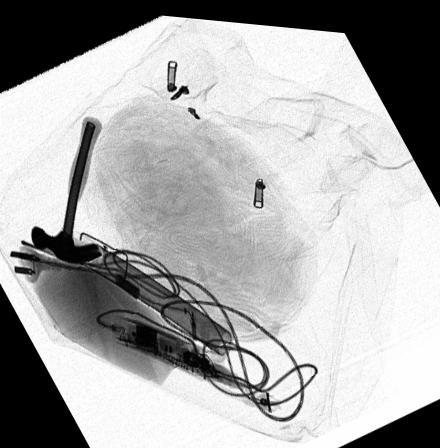Hammer: (30, 114, 104, 264)
